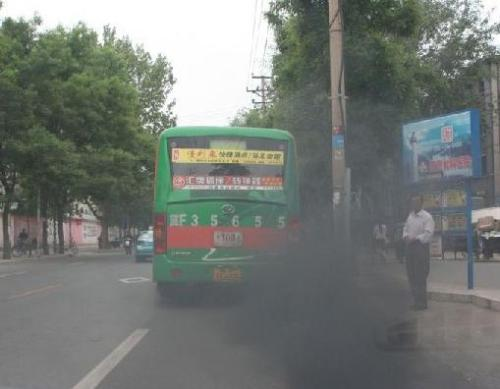smoke: (236, 219, 399, 389)
